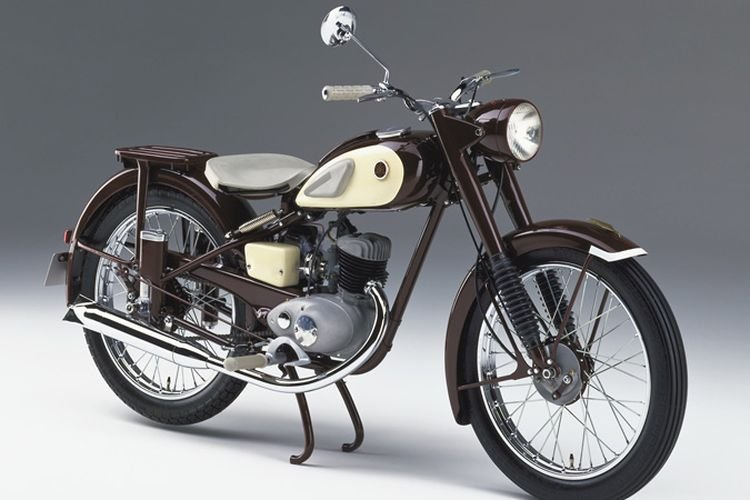motor: (43, 31, 703, 500)
